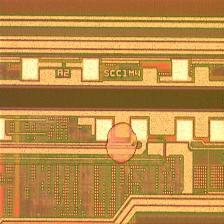COATING BAD: (104, 117, 144, 167)
